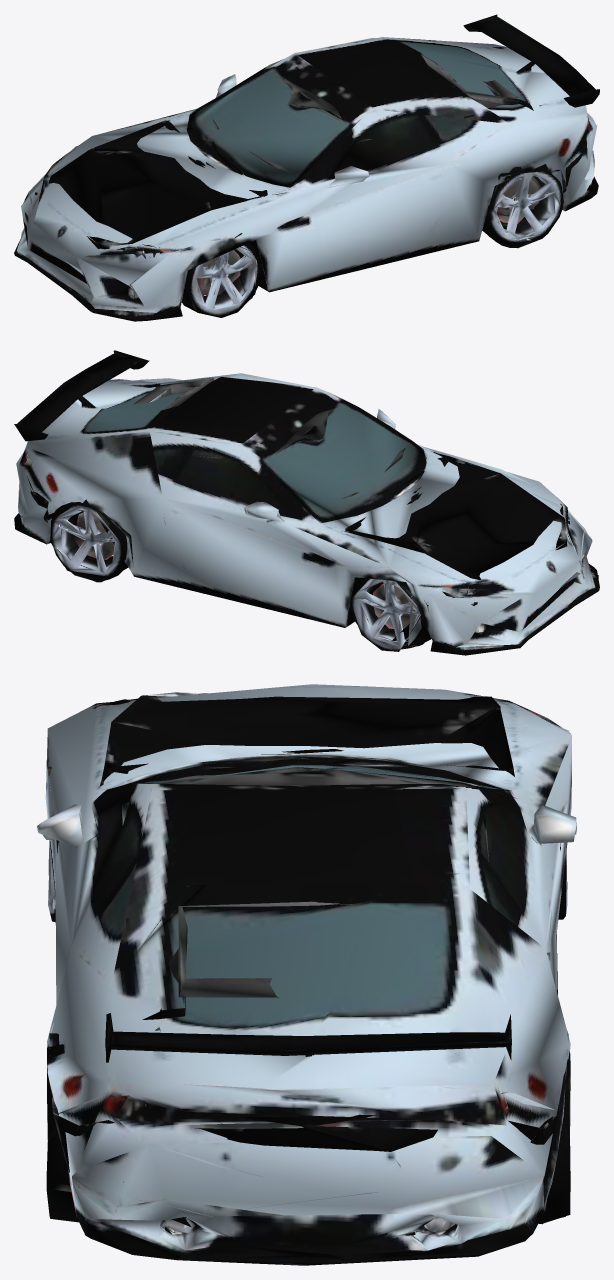
The model's file is car_new_a.glb.
3 renders of one model, top to bottom at view 1: azimuth 30°, elevation 25°; view 2: azimuth 150°, elevation 25°; view 3: azimuth 270°, elevation 25°, orthographic. The views are drawn at different scales.
Visible parts, largest first — view 1: world; view 2: world; view 3: world.
Part boxes in pixels (box(x1,y1,x2,y2)): world: box(14, 14, 599, 321); world: box(14, 350, 599, 655); world: box(37, 684, 576, 1265).
Size of the model in its own units: 0.9984 by 0.2862 by 0.4528.
Materials: 1 (1 with a texture image).
